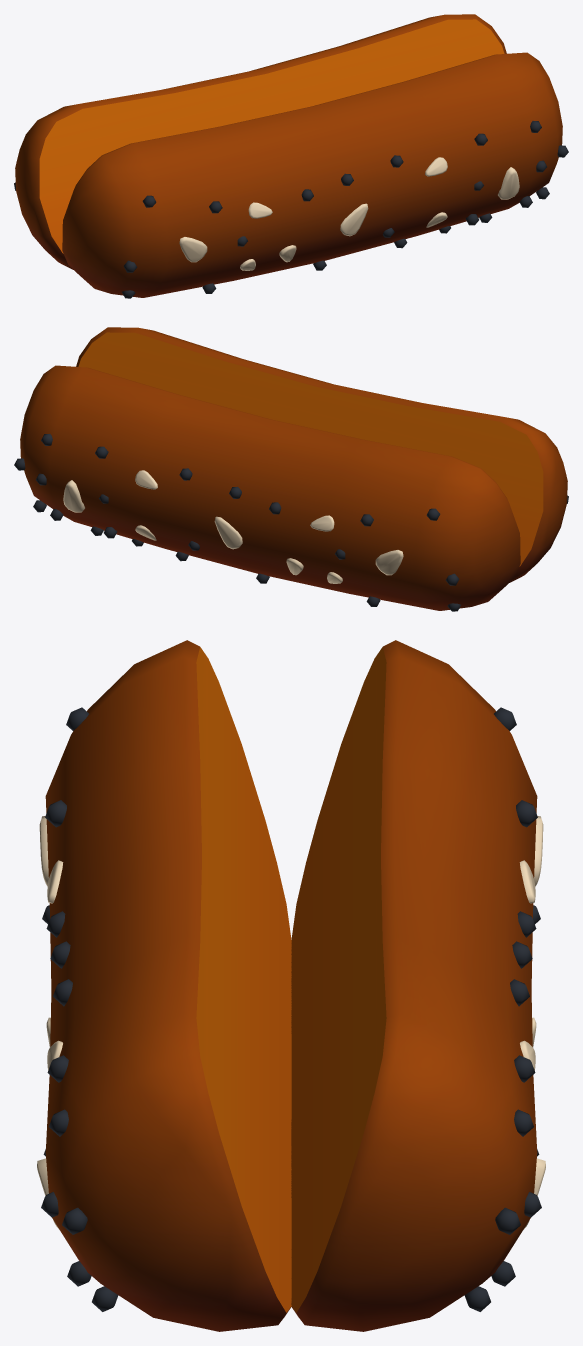
The model's file is HotDog_bun_with_seeds.006.fbx.
The picture shows the model from 3 angles, top to bottom: view 1: azimuth 30°, elevation 25°; view 2: azimuth 150°, elevation 25°; view 3: azimuth 270°, elevation 25°; orthographic projection. The views are drawn at different scales.
Parts seen in each view (by area): view 1: HotDog_bun_with_seeds.006; view 2: HotDog_bun_with_seeds.006; view 3: HotDog_bun_with_seeds.006.
Boxes of the visible parts, x1=… form: HotDog_bun_with_seeds.006: x1=14, y1=14, x2=568, y2=298; HotDog_bun_with_seeds.006: x1=14, y1=327, x2=568, y2=611; HotDog_bun_with_seeds.006: x1=37, y1=640, x2=545, y2=1331.
Size of the model in its own units: 153 by 69.97 by 49.72.
